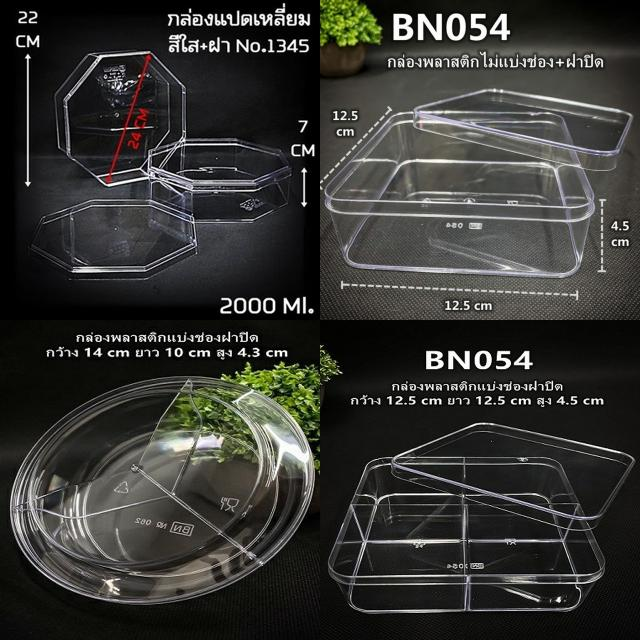Single-Use-Plastic: (10, 376, 314, 604), (329, 422, 634, 613), (325, 89, 632, 278), (55, 51, 185, 187), (29, 200, 198, 278), (148, 139, 291, 222)
